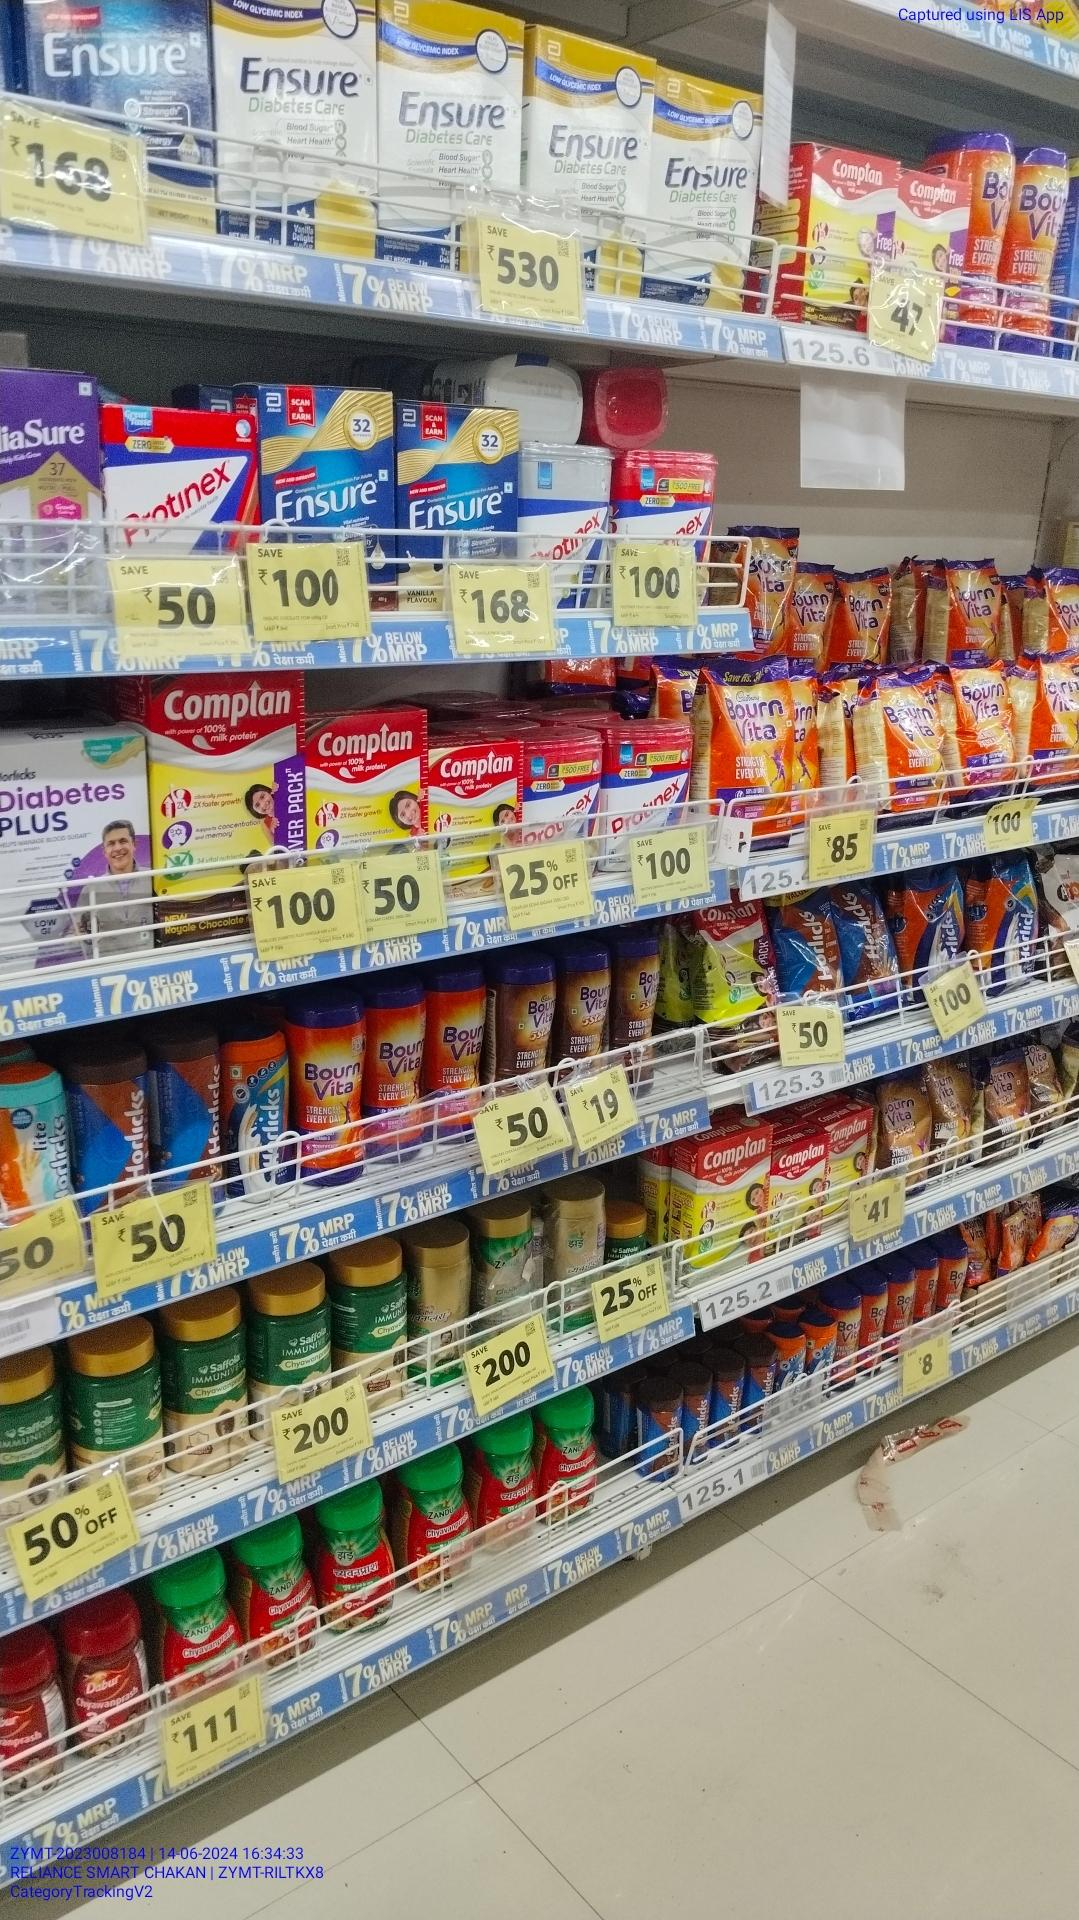BOURN_VITA_500_G_JAR: (297, 1002, 365, 1187), (371, 980, 427, 1167), (433, 971, 483, 1145), (835, 1299, 863, 1393), (865, 1284, 888, 1378), (889, 1270, 917, 1344), (939, 1249, 967, 1307)
BOURN_VITA_500_G_POUCH: (873, 670, 947, 822), (954, 662, 1018, 806), (944, 556, 1002, 655)
BOURN_VITA_750_G_POUCH: (715, 661, 794, 849)
BOURN_VITA_FIVE_STAR_MAGIC_500_G_JAR: (616, 938, 665, 1095), (500, 959, 557, 1080), (561, 949, 612, 1065)
BOURN_VITA_FIVE_STAR_MAGIC_750_G_POUCH: (881, 1079, 934, 1199), (985, 1054, 1026, 1162), (935, 1059, 972, 1175)
COMPLAN_CHOCOLATE_1_KG_PACK: (152, 670, 306, 877)
COMPLAN_CHOCOLATE_200_GMS_PACK: (310, 707, 423, 858), (806, 148, 892, 324), (772, 1131, 828, 1253)
COMPLAN_KESAR_BADAM_200_GMS_PACK: (429, 741, 525, 847)
COMPLAN_PISTA_BADAM_500_GMS_PACK: (695, 1141, 769, 1288)
COMPLAN_RC_POUCH_700_GMS_12: (706, 906, 782, 1075)
ENSURE_VANILLA_400_G_PACK: (396, 400, 518, 566)
HORLICKS_LITE_REGULAR_MALT_500_GM_JAR: (4, 1065, 73, 1205)
HORLICK_CHOCOLATE_200_G_JAR: (646, 1393, 683, 1484), (712, 1369, 745, 1448), (747, 1352, 774, 1436), (687, 1375, 707, 1466)
HORLICK_CHOCOLATE_500_G_JAR: (80, 1052, 153, 1208), (158, 1039, 224, 1180)
HORLICK_CLASSIC_MALT_500_G_JAR: (224, 1033, 289, 1203)
PROTINEX_ORIGINAL_400_G_JAR: (520, 440, 615, 597)
